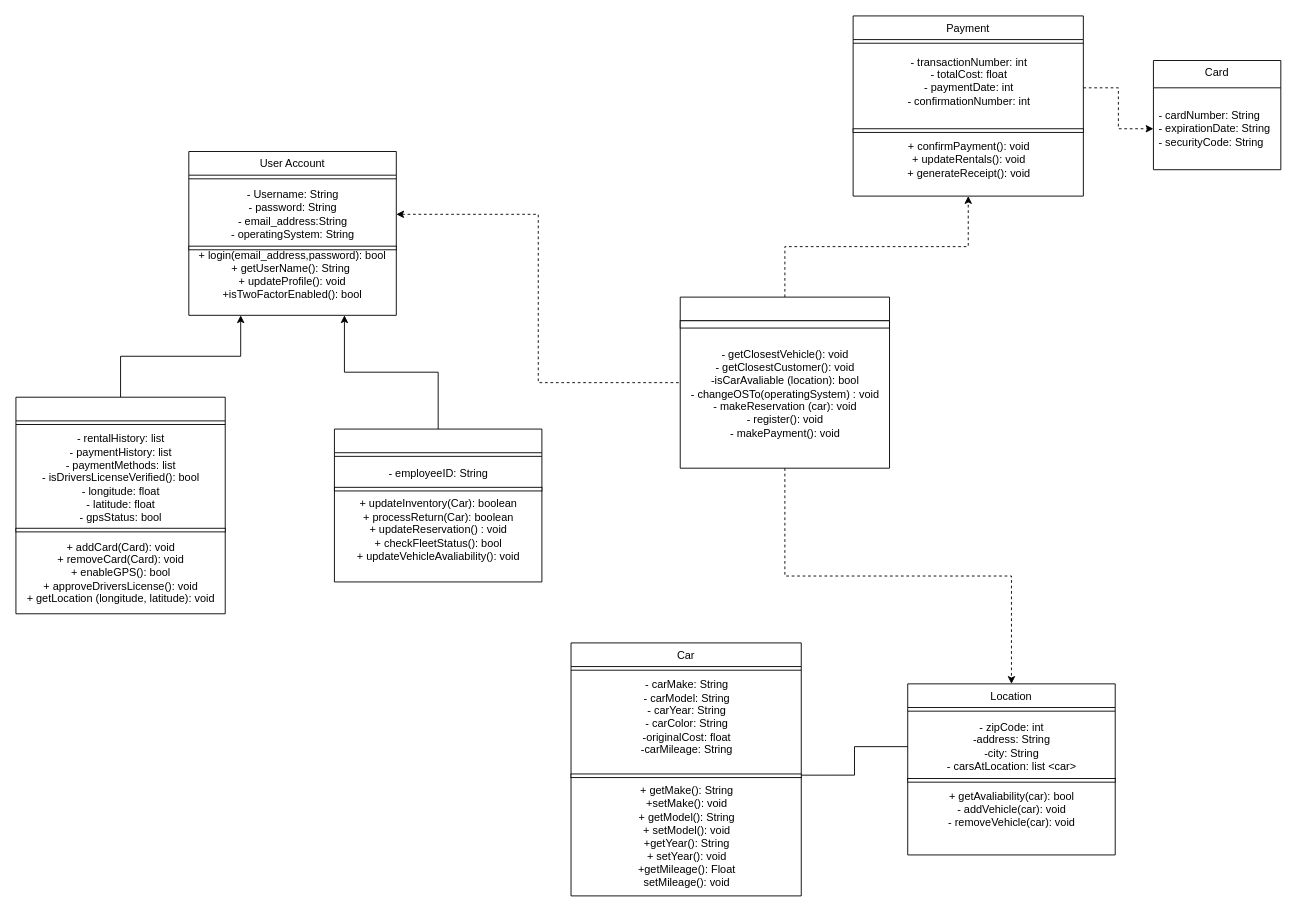
Some shapes in this 1297 by 912 pixel diagram are drawn without their labels. The shapes that lost their labels are listed below. From the top down, each one's box as (x1, y1, x2, y2) in pixels, then its label:
(679, 296, 890, 468): Platform
(15, 396, 225, 614): Customer Account
(334, 428, 542, 582): Employee Account
